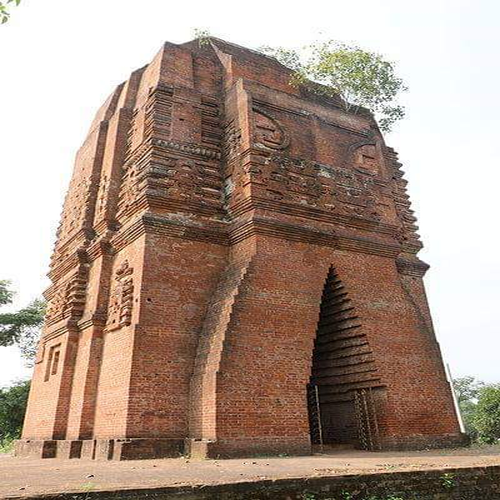Temple: (40, 25, 454, 445)
